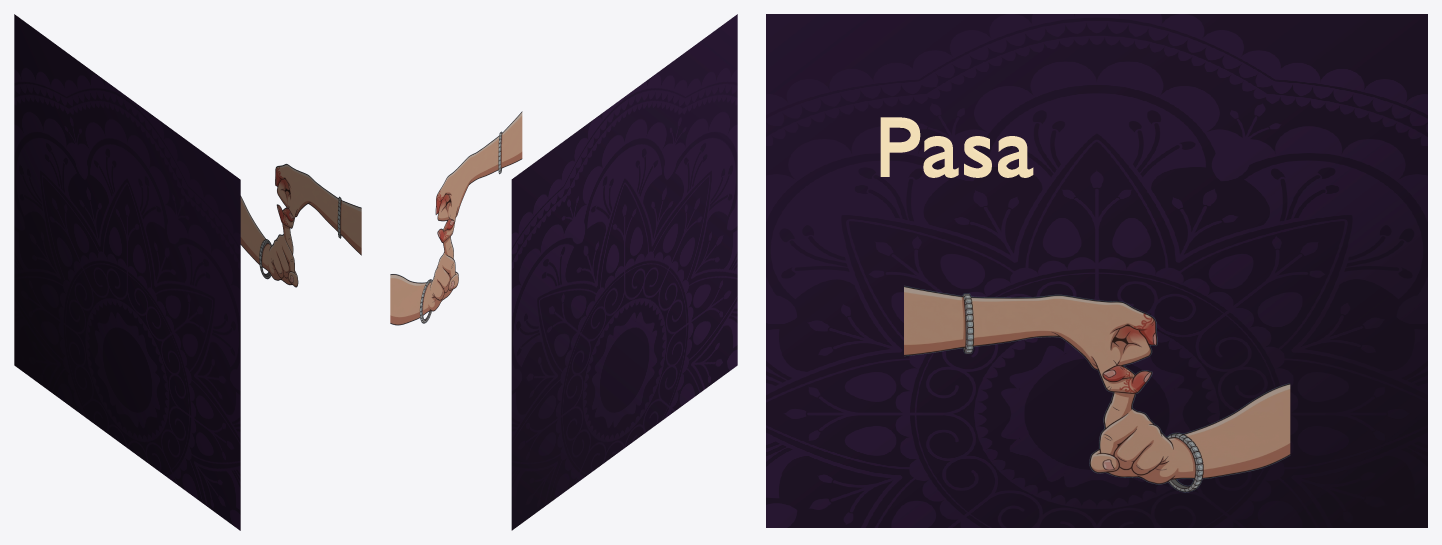
The model's file is Pasa.glb.
3 renders of one model, left to right at view 1: azimuth 30°, elevation 25°; view 2: azimuth 150°, elevation 25°; view 3: azimuth 270°, elevation 25°, orthographic. The views are drawn at different scales.
Visible parts, largest first — view 1: Plane.013, Anjali.013; view 2: Plane.013, Anjali.013; view 3: Plane.013, Anjali.013, Text.035.
Part boxes in pixels (x1=…): Plane.013: x1=14, y1=14, x2=240, y2=530; Anjali.013: x1=240, y1=163, x2=361, y2=287; Plane.013: x1=511, y1=14, x2=737, y2=530; Anjali.013: x1=390, y1=111, x2=522, y2=325; Plane.013: x1=766, y1=14, x2=1427, y2=527; Anjali.013: x1=904, y1=285, x2=1290, y2=492; Text.035: x1=880, y1=117, x2=1033, y2=177.
Size of the model in its own units: 1.53 by 3.05 by 3.56.
3 materials, 2 textured.
